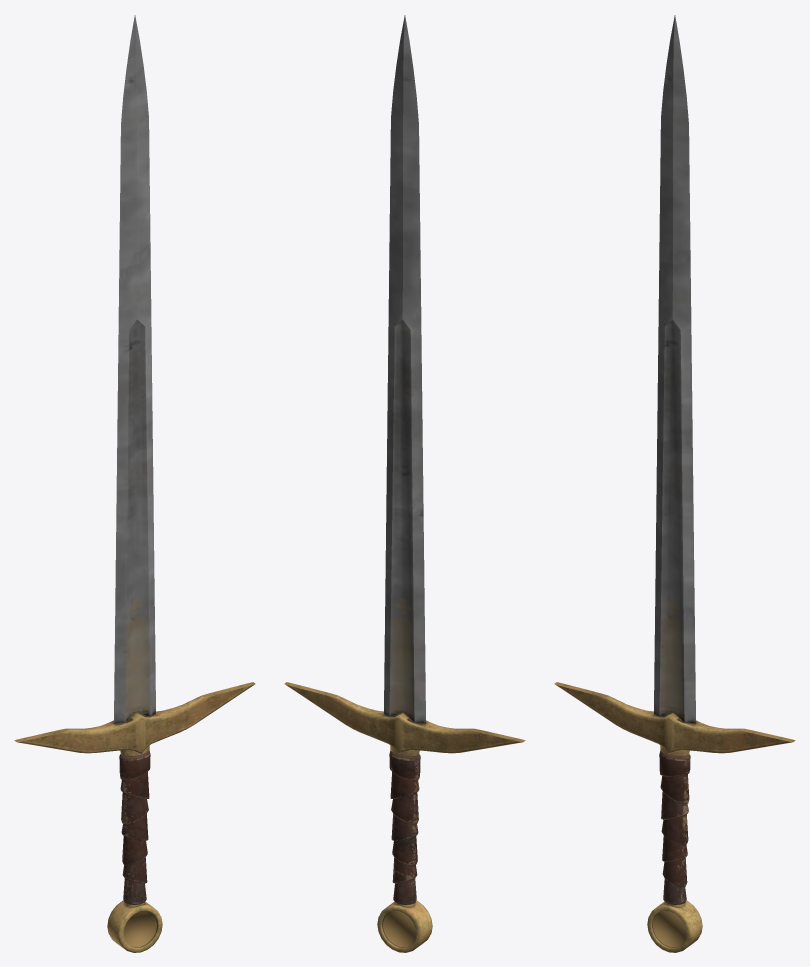
File: broad_greatsword.glb
3 renders of one model, left to right at view 1: azimuth 30°, elevation 25°; view 2: azimuth 150°, elevation 25°; view 3: azimuth 330°, elevation 25°, orthographic.
Visible parts, largest first — view 1: broad_greatsword; view 2: broad_greatsword; view 3: broad_greatsword.
Part boxes in pixels (bbox=[...]): broad_greatsword: bbox=[14, 15, 255, 952]; broad_greatsword: bbox=[284, 15, 525, 952]; broad_greatsword: bbox=[554, 15, 795, 952].
Size of the model in its own units: 0.4289 by 1.6 by 0.0419.
1 material, 1 textured.
